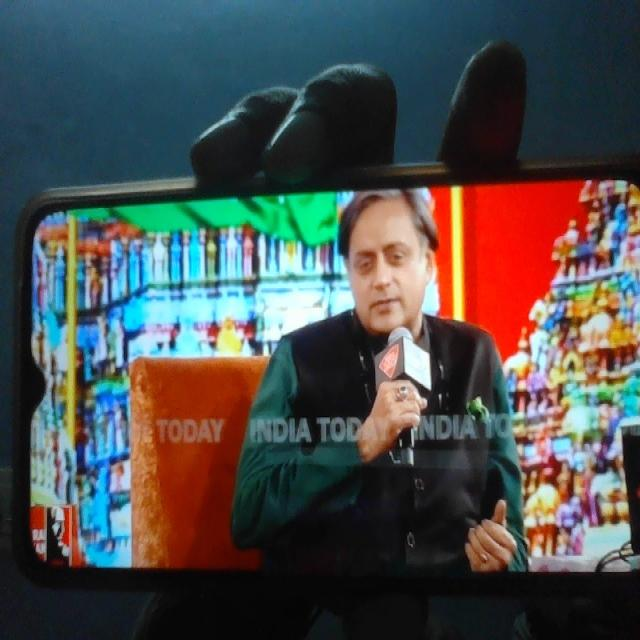fake: (324, 143, 446, 373)
